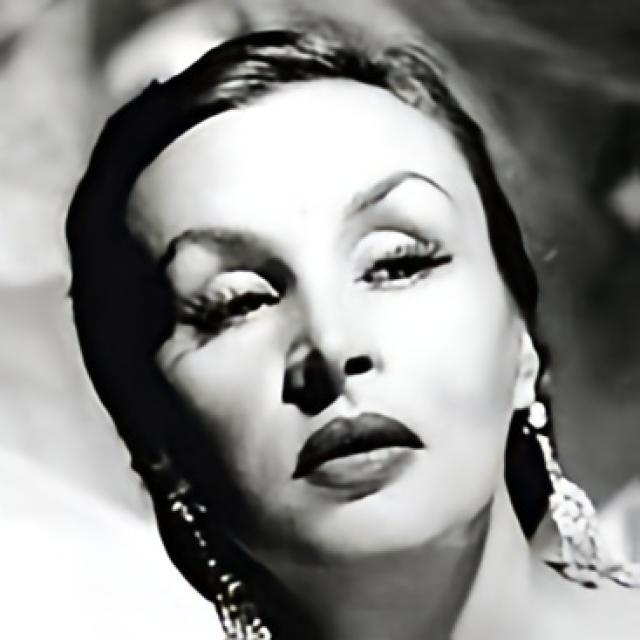neutral: (122, 78, 514, 568)
